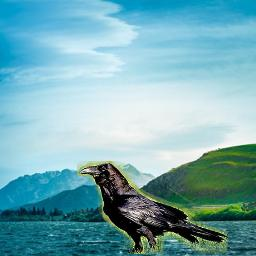Crow: (77, 161, 228, 254)
